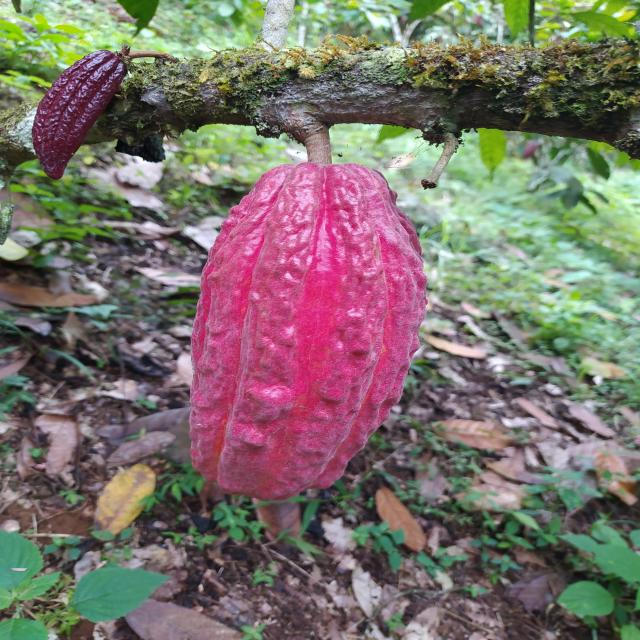Sana: (190, 162, 430, 497), (30, 49, 130, 181)
